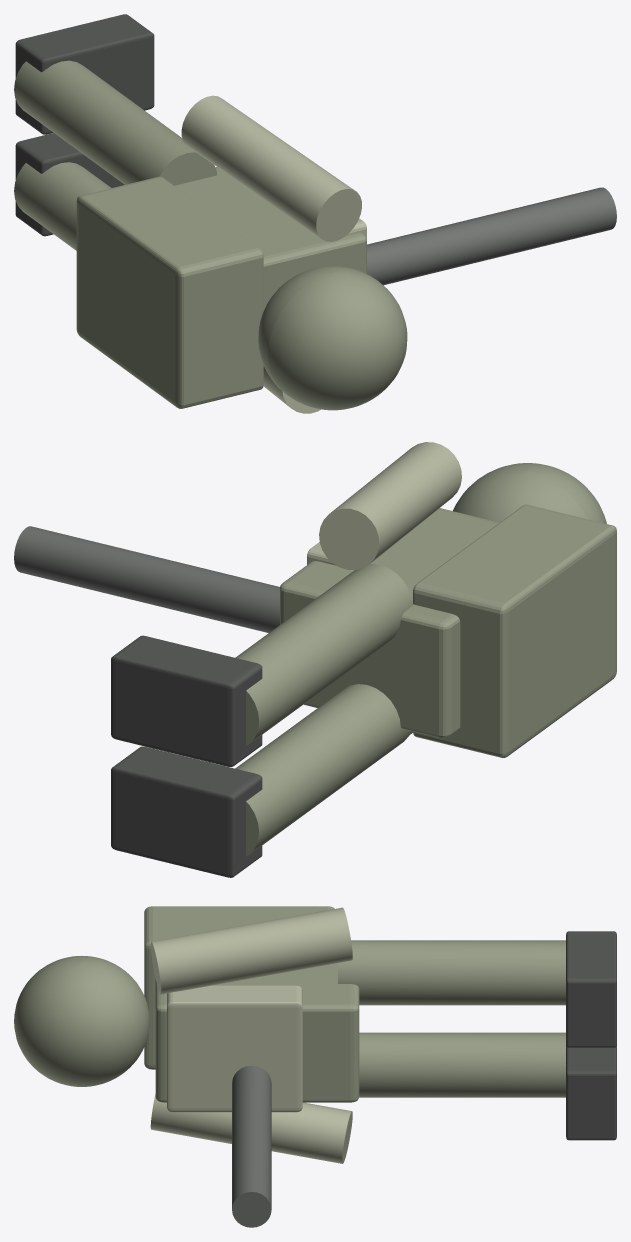
Rendered from v-u03-vanguard-sniper-lod1.glb.
3 renders of one model, top to bottom at view 1: azimuth 30°, elevation 25°; view 2: azimuth 150°, elevation 25°; view 3: azimuth 270°, elevation 25°, orthographic. The views are drawn at different scales.
Parts seen in each view (by area): view 1: soldier_0_backpack, soldier_0_helmet, soldier_0_leg_1, soldier_0_arm_1, soldier_0_sniper, soldier_0_torso, soldier_0_boot_1, soldier_0_leg_-1, soldier_0_boot_-1, soldier_0_arm_-1; view 2: soldier_0_backpack, soldier_0_torso, soldier_0_boot_-1, soldier_0_boot_1, soldier_0_leg_1, soldier_0_leg_-1, soldier_0_sniper, soldier_0_arm_1, soldier_0_helmet; view 3: soldier_0_chest, soldier_0_leg_1, soldier_0_helmet, soldier_0_leg_-1, soldier_0_arm_1, soldier_0_torso, soldier_0_sniper, soldier_0_arm_-1, soldier_0_boot_1, soldier_0_backpack, soldier_0_boot_-1.
Part boxes in pixels (x1,y1,x2,y2): soldier_0_backpack: (76, 176, 263, 408); soldier_0_helmet: (258, 266, 407, 410); soldier_0_leg_1: (14, 60, 216, 185); soldier_0_arm_1: (181, 95, 361, 241); soldier_0_sniper: (367, 187, 616, 285); soldier_0_torso: (174, 167, 366, 310); soldier_0_boot_1: (15, 14, 154, 134); soldier_0_leg_-1: (14, 162, 111, 250); soldier_0_boot_-1: (15, 133, 124, 236); soldier_0_arm_-1: (263, 366, 320, 413); soldier_0_backpack: (413, 504, 616, 757); soldier_0_torso: (280, 508, 499, 738); soldier_0_boot_-1: (111, 746, 262, 877); soldier_0_boot_1: (111, 635, 262, 766); soldier_0_leg_1: (235, 564, 413, 745); soldier_0_leg_-1: (235, 684, 410, 856); soldier_0_sniper: (14, 526, 279, 632); soldier_0_arm_1: (319, 442, 461, 569); soldier_0_helmet: (453, 463, 606, 523); soldier_0_chest: (167, 985, 302, 1112); soldier_0_leg_1: (338, 940, 565, 1005); soldier_0_helmet: (14, 956, 149, 1086); soldier_0_leg_-1: (359, 1032, 565, 1097); soldier_0_arm_1: (150, 907, 352, 994); soldier_0_torso: (155, 963, 359, 1102); soldier_0_sniper: (232, 1065, 271, 1227); soldier_0_arm_-1: (150, 1093, 352, 1163); soldier_0_boot_1: (566, 931, 616, 1047); soldier_0_backpack: (144, 906, 334, 1069); soldier_0_boot_-1: (566, 1045, 616, 1140).
Size of what is drawn, in the model's own units: 1.73 by 0.894 by 2.04.
